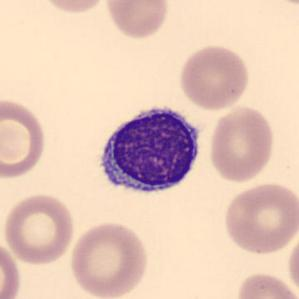Lymphocyte: (90, 96, 207, 204)
RBC: (68, 219, 152, 299), (221, 180, 298, 256), (1, 191, 76, 266), (207, 104, 277, 184), (176, 43, 252, 111), (0, 95, 48, 181), (102, 0, 171, 40), (234, 269, 298, 299), (0, 238, 23, 299), (34, 0, 109, 15), (285, 228, 299, 298)
